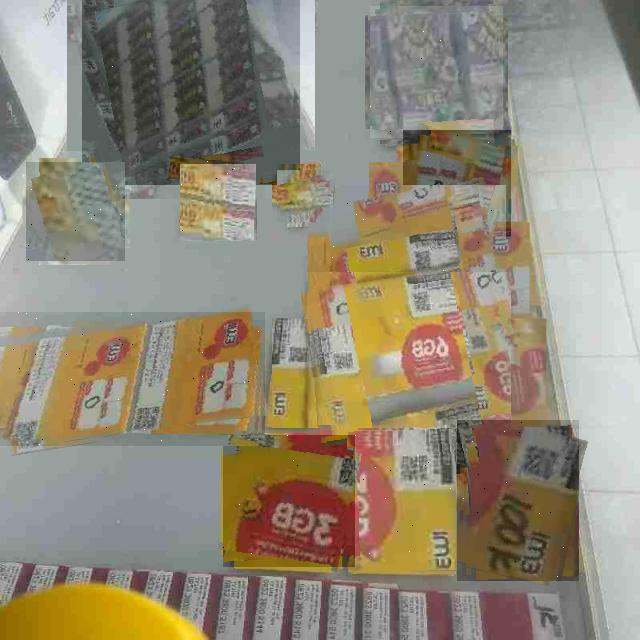Axis: (82, 0, 300, 185), (370, 6, 503, 138)
im3: (307, 272, 511, 475), (0, 312, 265, 446), (331, 185, 506, 360), (457, 420, 579, 581), (223, 435, 355, 567), (348, 429, 456, 574), (403, 130, 511, 239), (26, 162, 125, 261), (180, 164, 256, 241), (277, 170, 330, 222)
